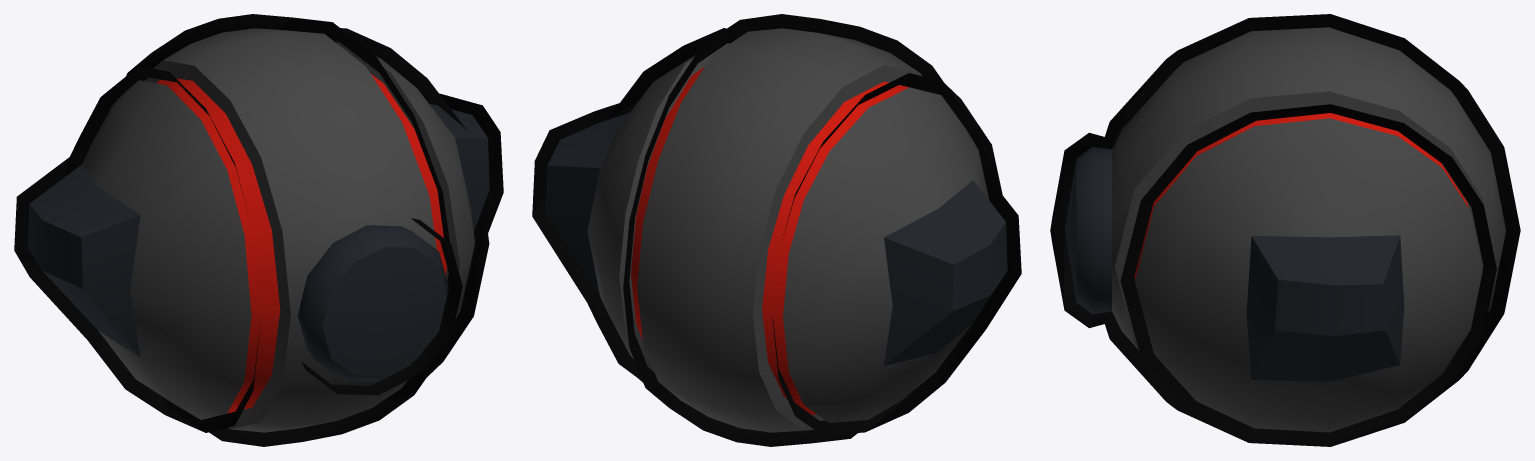
The model's file is drone.fbx.
3 views of the same model, side by side, from view 1: azimuth 30°, elevation 25°; view 2: azimuth 150°, elevation 25°; view 3: azimuth 270°, elevation 25° (orthographic).
Parts seen in each view (by area): view 1: drone; view 2: drone; view 3: drone.
Part boxes in pixels (box(x1,y1,x2,y2)): drone: box(14, 14, 503, 446); drone: box(532, 14, 1021, 446); drone: box(1050, 14, 1520, 446).
Bounding box in the file's own units: 209 × 172 × 186.
